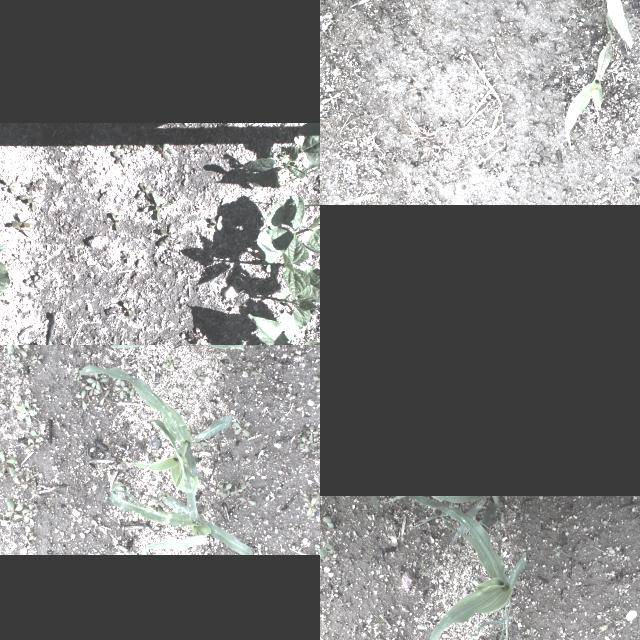crop: (77, 366, 233, 490), (406, 496, 527, 640), (106, 484, 252, 554), (561, 11, 613, 145), (387, 496, 498, 544), (256, 192, 320, 266), (243, 128, 320, 188), (429, 602, 517, 640), (248, 313, 320, 345), (592, 0, 634, 48), (289, 263, 320, 327), (281, 234, 309, 298)
weed: (604, 598, 628, 628), (15, 398, 37, 428), (230, 414, 254, 440), (150, 192, 170, 220), (20, 428, 42, 452), (157, 352, 181, 372), (300, 493, 320, 517), (563, 186, 589, 204), (0, 450, 16, 478), (154, 141, 176, 161), (17, 531, 39, 551), (159, 222, 177, 245), (162, 386, 195, 398), (368, 608, 386, 630), (18, 194, 42, 210), (195, 323, 211, 345), (9, 215, 35, 227), (90, 514, 104, 536), (190, 366, 206, 384), (24, 178, 44, 192), (246, 368, 266, 382), (86, 376, 106, 389), (112, 134, 128, 150), (138, 364, 154, 380), (112, 382, 128, 398), (112, 149, 126, 167), (74, 391, 88, 409), (1, 178, 18, 192), (5, 502, 22, 516), (98, 388, 112, 404), (8, 354, 26, 366), (320, 539, 333, 555), (320, 510, 332, 527), (138, 184, 152, 198), (468, 94, 482, 108), (216, 483, 230, 497), (209, 214, 221, 230), (23, 276, 39, 288), (31, 350, 44, 364), (6, 253, 24, 263), (311, 371, 320, 390), (304, 427, 318, 439), (86, 382, 98, 396), (122, 300, 132, 316), (239, 496, 255, 506), (24, 506, 36, 518), (552, 544, 564, 556), (298, 438, 308, 452), (110, 213, 118, 230), (311, 485, 320, 500), (15, 345, 27, 356), (0, 393, 6, 414), (363, 22, 375, 32), (15, 477, 27, 487), (15, 230, 32, 237), (0, 345, 17, 352), (122, 250, 130, 264), (240, 475, 248, 489), (630, 629, 640, 640), (230, 486, 240, 496), (2, 519, 14, 527), (310, 437, 320, 446), (311, 448, 320, 457), (252, 486, 260, 496), (315, 539, 320, 553), (32, 485, 40, 493)
